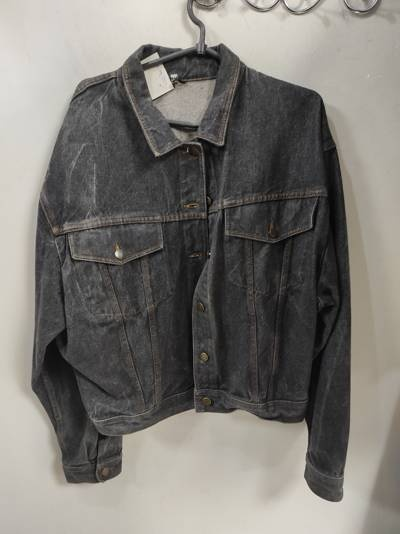Blazer: (21, 56, 378, 497)
